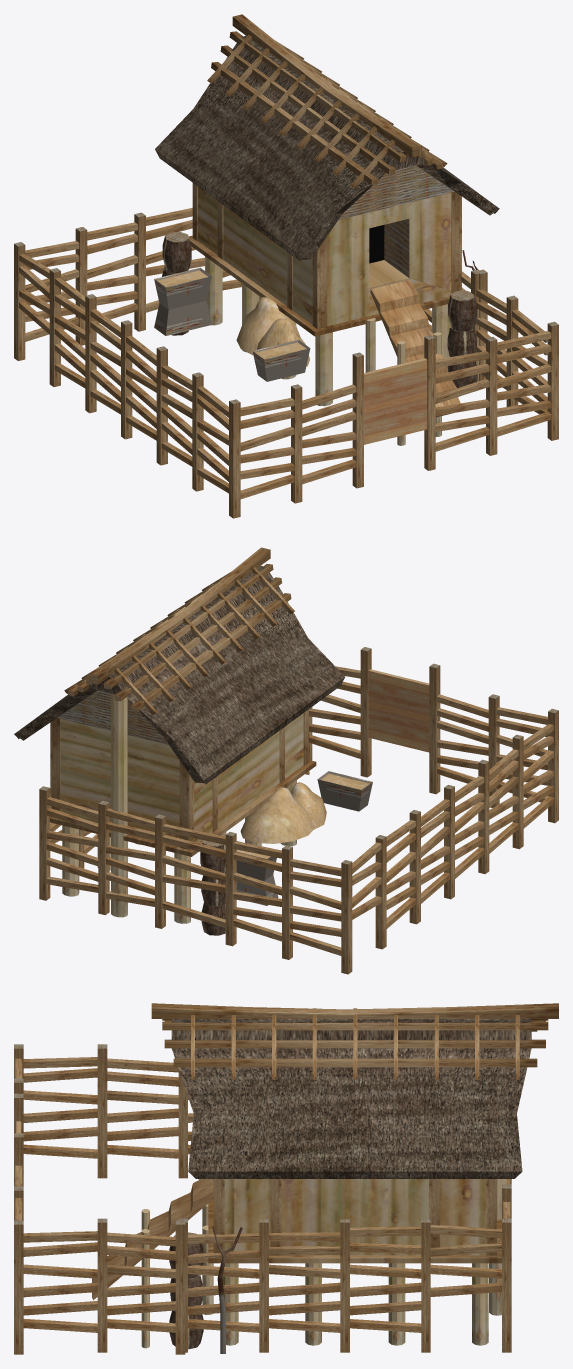
The model's file is yayoi_corral.dae.
3 renders of one model, top to bottom at view 1: azimuth 30°, elevation 25°; view 2: azimuth 150°, elevation 25°; view 3: azimuth 270°, elevation 25°, orthographic. The views are drawn at different scales.
Parts seen in each view (by area): view 1: corral_001; view 2: corral_001; view 3: corral_001.
Part boxes in pixels (x1,y1,x2,y2): corral_001: (14, 14, 558, 518); corral_001: (14, 547, 558, 974); corral_001: (14, 1003, 558, 1354).
Size of the model in its own units: 14.83 by 17.98 by 12.02.
Materials: 1 (1 with a texture image).
